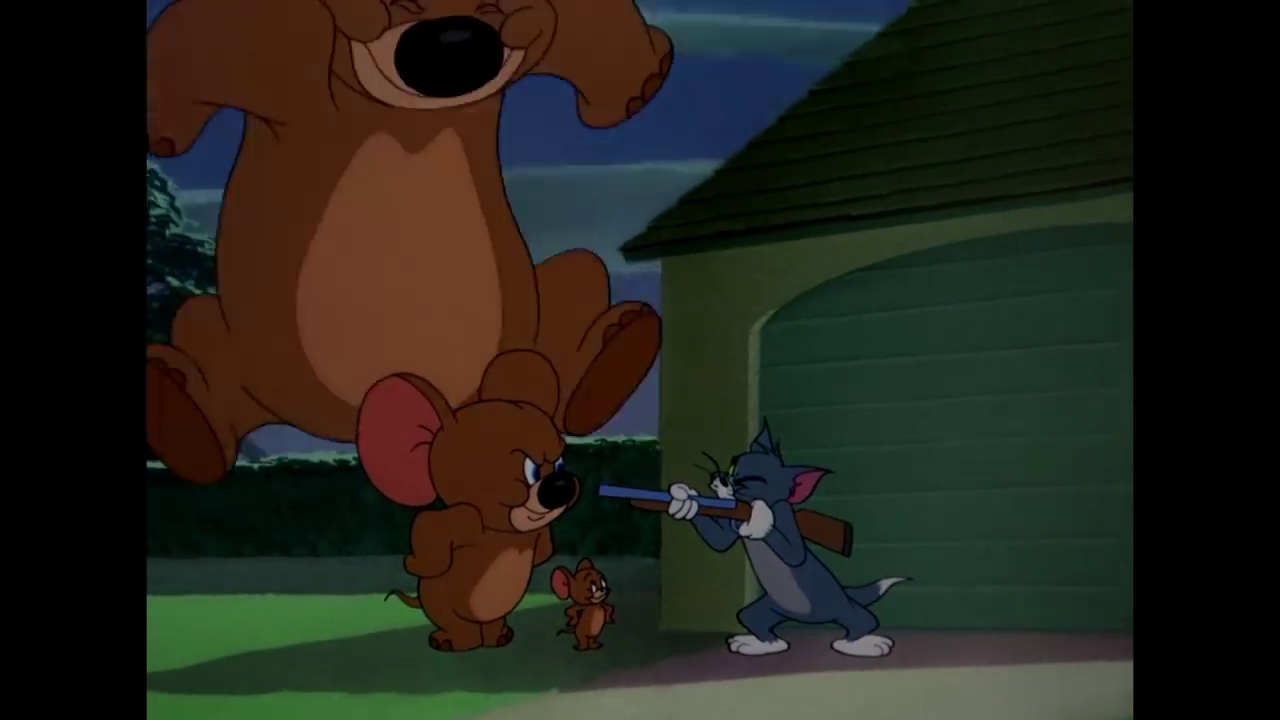tom: (703, 417, 842, 517)
